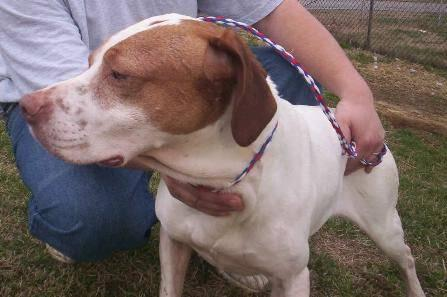dog: (20, 14, 424, 296)
